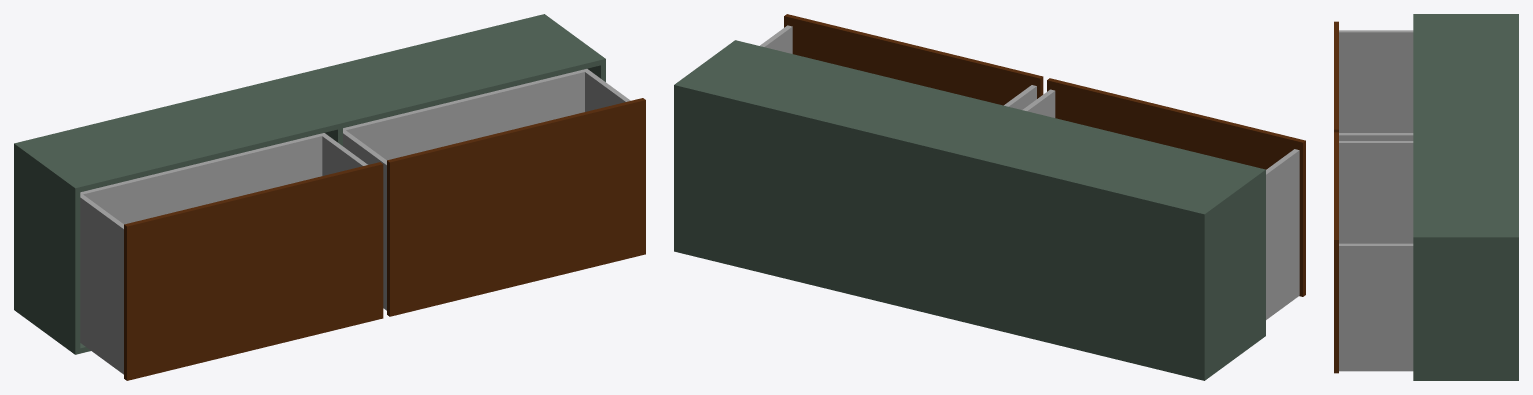
The model's file is meuble_690f6769db023.glb.
3 views of the same model, side by side, from view 1: azimuth 30°, elevation 25°; view 2: azimuth 150°, elevation 25°; view 3: azimuth 270°, elevation 25° (orthographic). The views are drawn at different scales.
Visible parts, largest first — view 1: world; view 2: world; view 3: world.
Part boxes in pixels (x1,y1,x2,y2): world: (14, 14, 645, 380); world: (674, 14, 1305, 380); world: (1334, 14, 1518, 380).
Bounding box in the file's own units: 2 × 0.6 × 0.7.
Materials: 1 (1 with a texture image).
